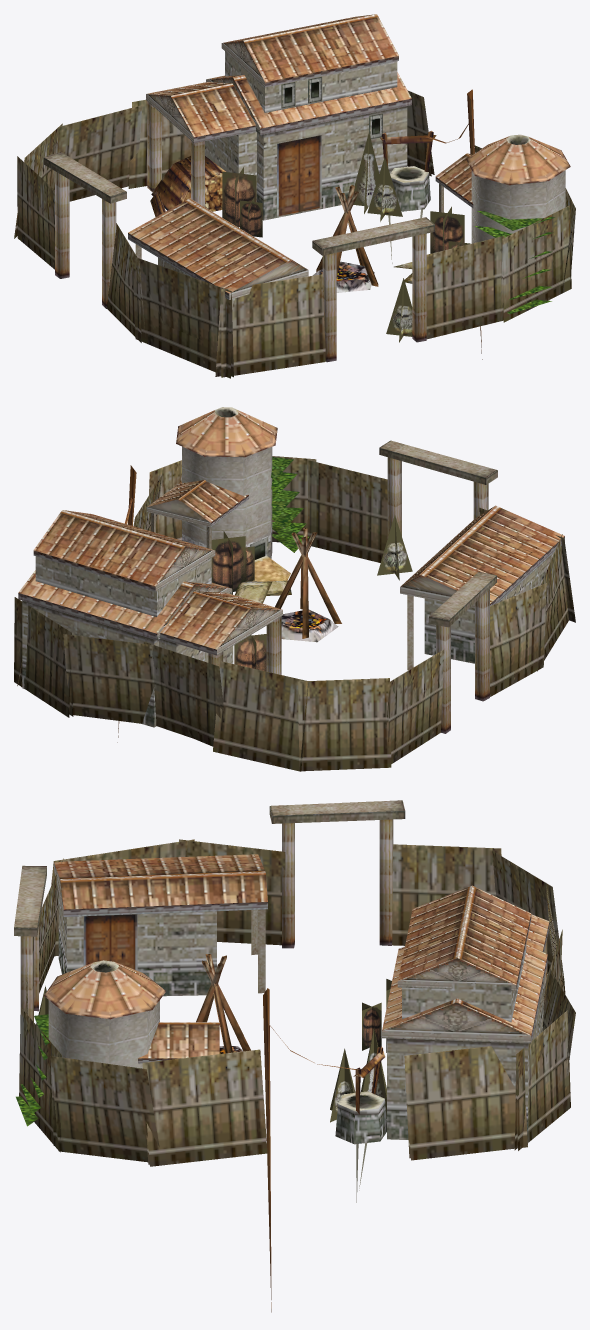
Rendered from town_center_age2.glb.
3 renders of one model, top to bottom at view 1: azimuth 30°, elevation 25°; view 2: azimuth 150°, elevation 25°; view 3: azimuth 270°, elevation 25°, orthographic. The views are drawn at different scales.
Parts seen in each view (by area): view 1: MeshRoot; view 2: MeshRoot; view 3: MeshRoot.
Boxes of the visible parts, left/top/right/bottom form: MeshRoot: left=14, top=14, right=575, bottom=378; MeshRoot: left=14, top=407, right=575, bottom=771; MeshRoot: left=14, top=800, right=575, bottom=1312.
Size of the model in its own units: 10.28 by 7.14 by 10.59.
4 materials, 4 textured.
